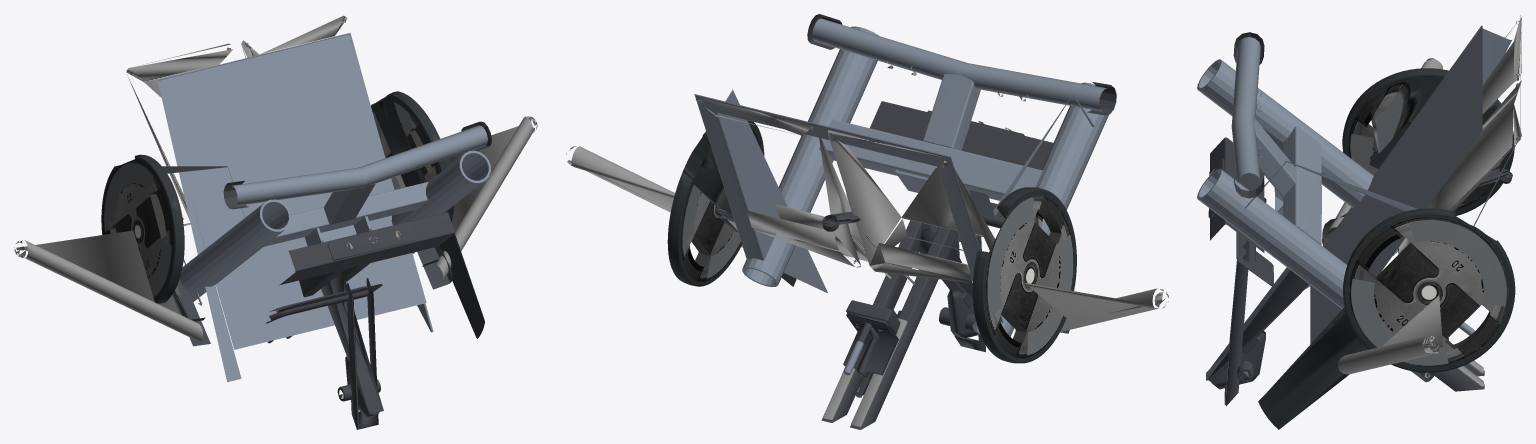
Rendered from leg-press-sled-grok.glb.
The picture shows the model from 3 angles, left to right: view 1: azimuth 30°, elevation 25°; view 2: azimuth 150°, elevation 25°; view 3: azimuth 270°, elevation 25°; orthographic projection. The views are drawn at different scales.
Visible parts, largest first — view 1: sled; view 2: sled; view 3: sled.
Part boxes in pixels (x1,y1,x2,y2): sled: (14, 15, 537, 429); sled: (566, 14, 1168, 429); sled: (1197, 15, 1521, 429).
Size of the model in its own units: 1.56 by 0.8333 by 0.7538.
5 materials, 1 textured.
